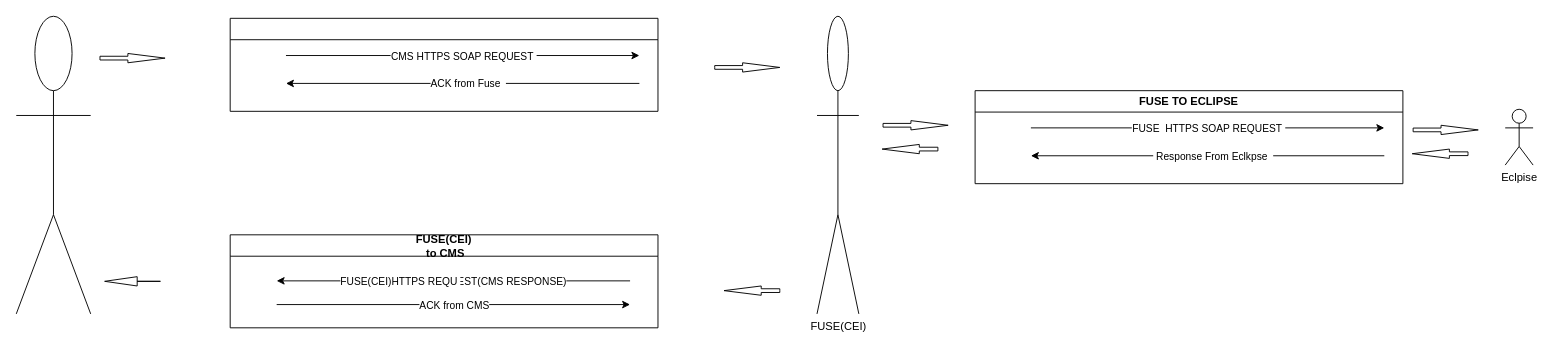
This 1553x350 diagram has some shape labels left out. Each missing label, with the box of its shape:
CMS: (15, 15, 91, 314)
CMS TO FUSE(CEI): (229, 17, 658, 111)
